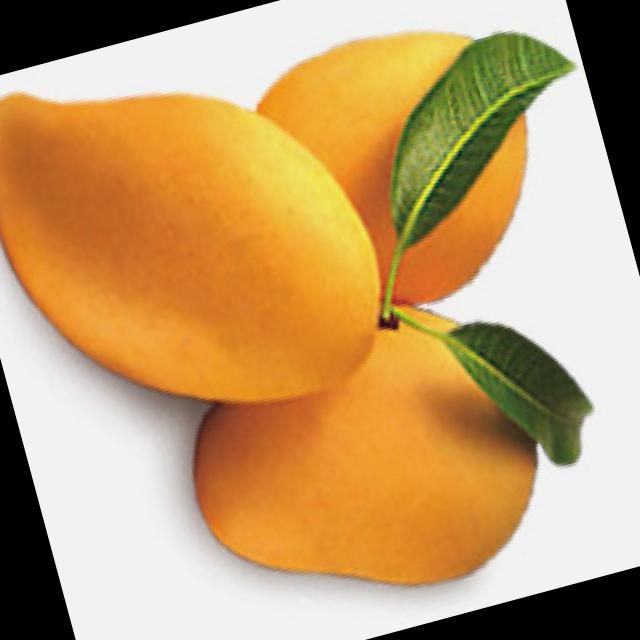mango: (0, 8, 411, 455), (159, 272, 586, 640), (242, 0, 579, 348)
